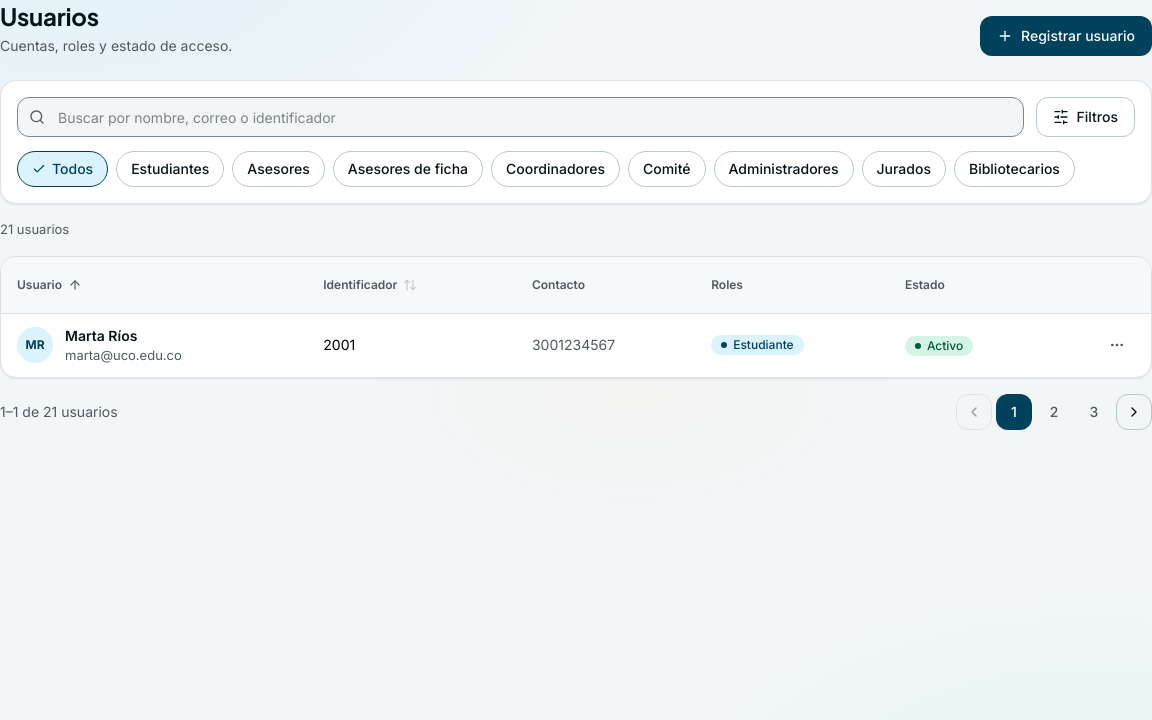
Test: AdministradorView › cerrar el panel devuelve el foco a su disparador y el listado conserva su filtro y su página
The width and height of the screenshot is (1152, 720).
Expected: the table named "Usuarios" is shown, [1,257,1151,377]
Type "mar" into the field named "Buscar usuarios" at (520,117), box [17,97,1024,137]
Wait 300 ms
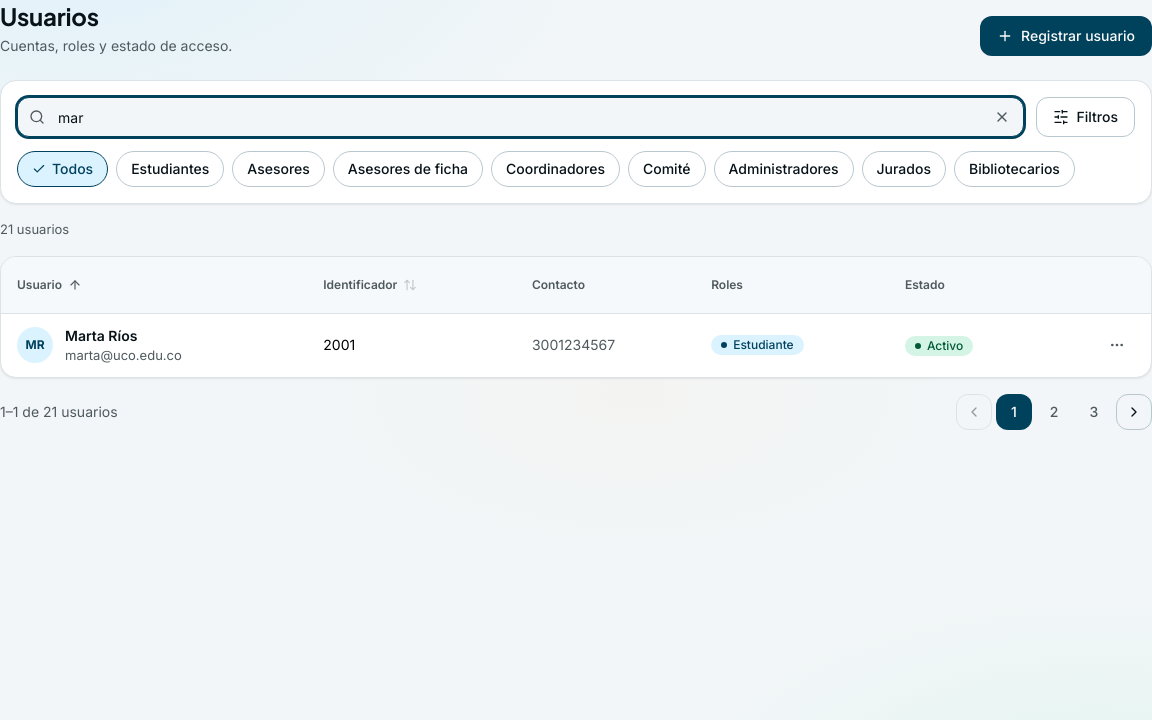
Click the button named "Página siguiente" at (1134,412), box [1116,394,1151,430]
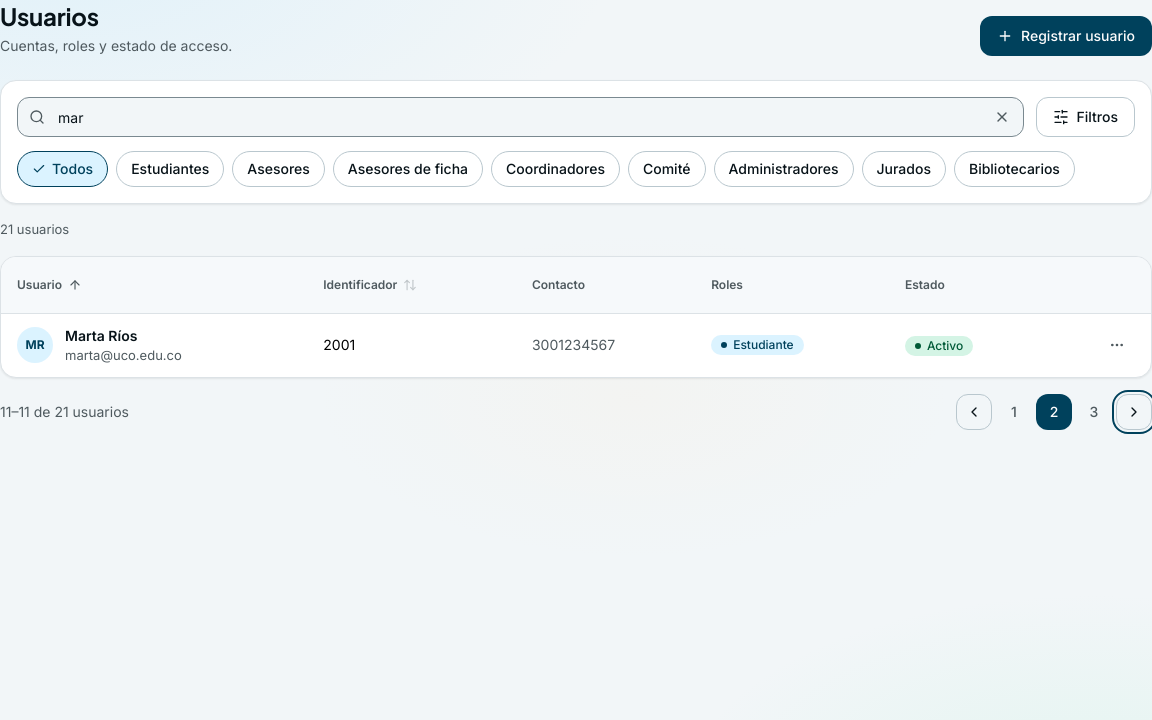
Click the button named "Acciones de Marta Ríos" at (1117,345), box [1099,327,1135,363]
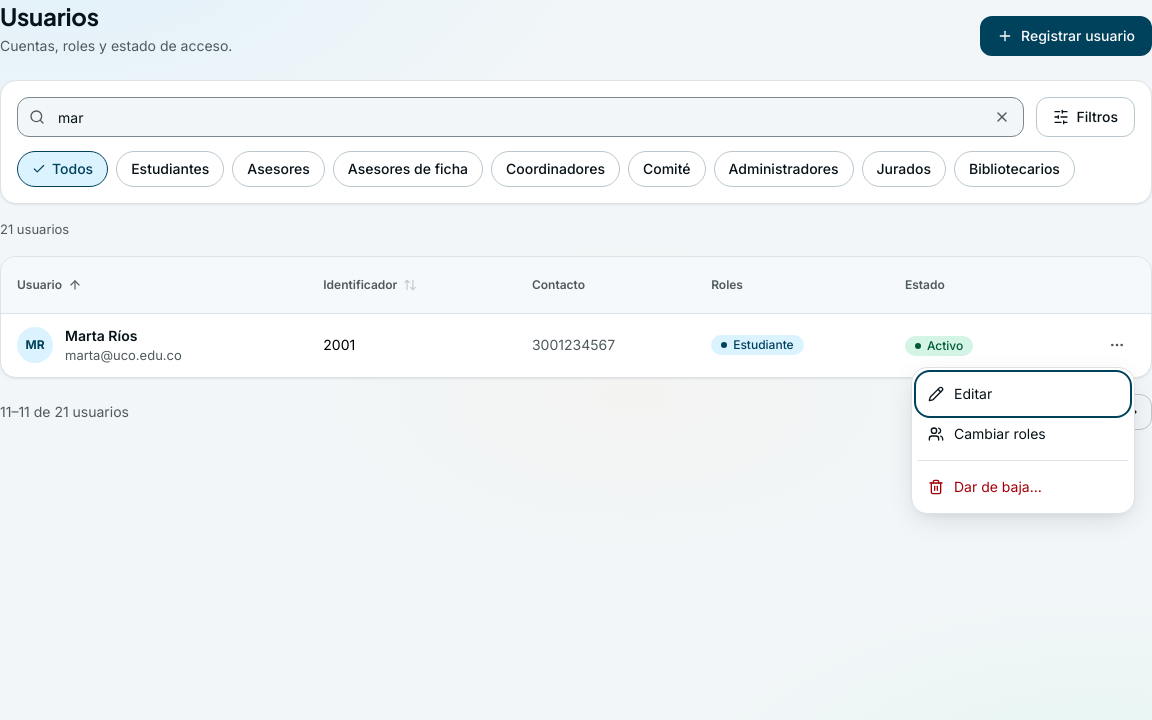
Click the menu item "Editar" at (1023,394), box [918,374,1128,414]
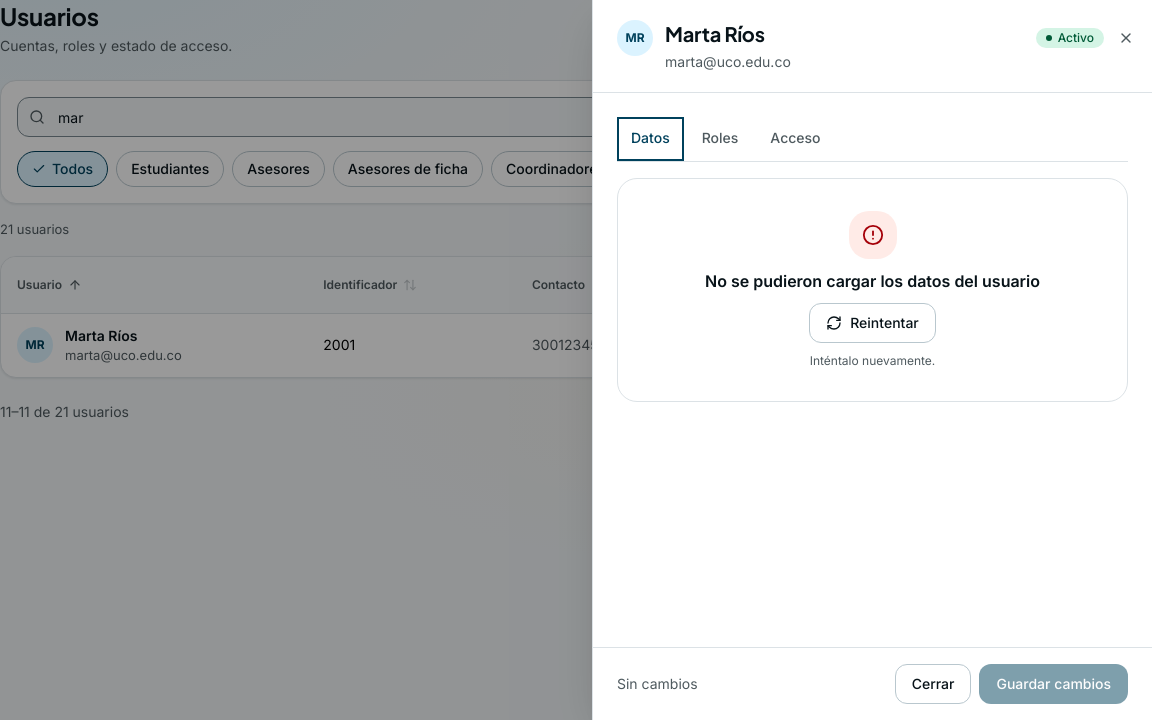
Click the button named "Cerrar panel" at (1126,38), box [1108,20,1144,56]
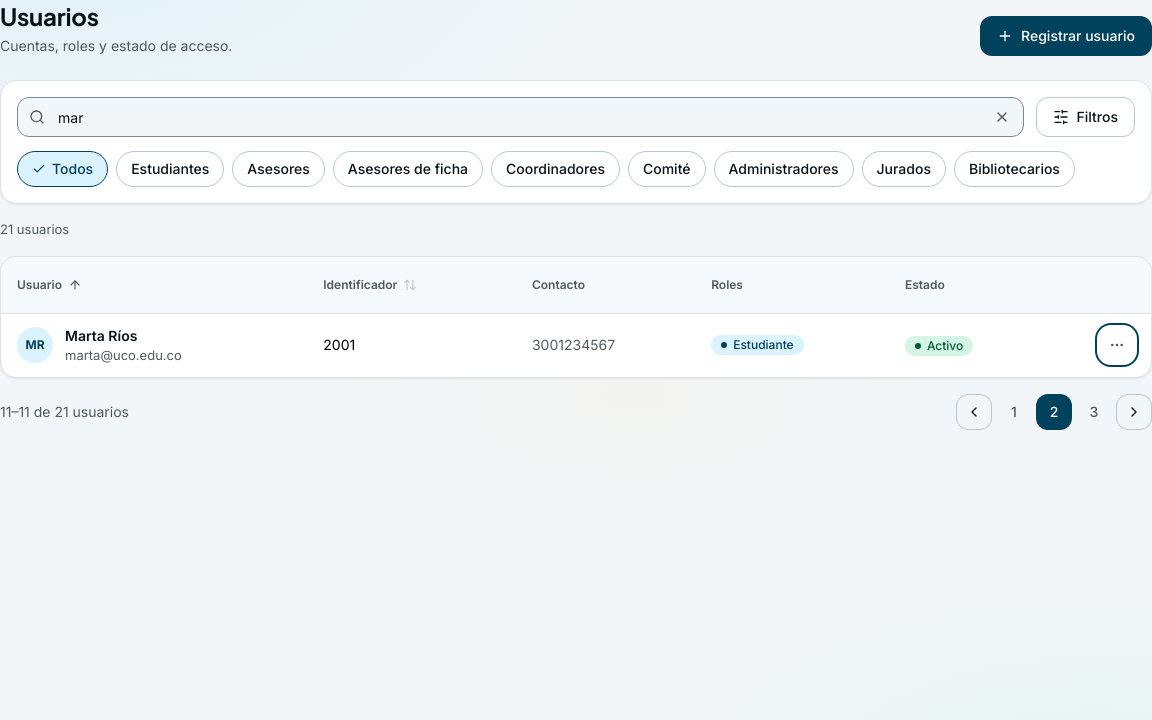
Expected: the dialog is gone
